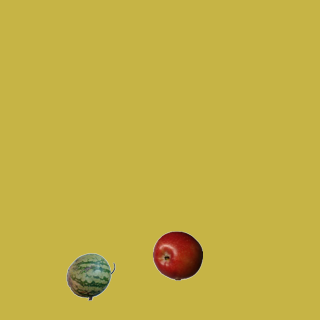Apple Braeburn: (152, 230, 202, 280)
Watermelon: (65, 251, 115, 301)
